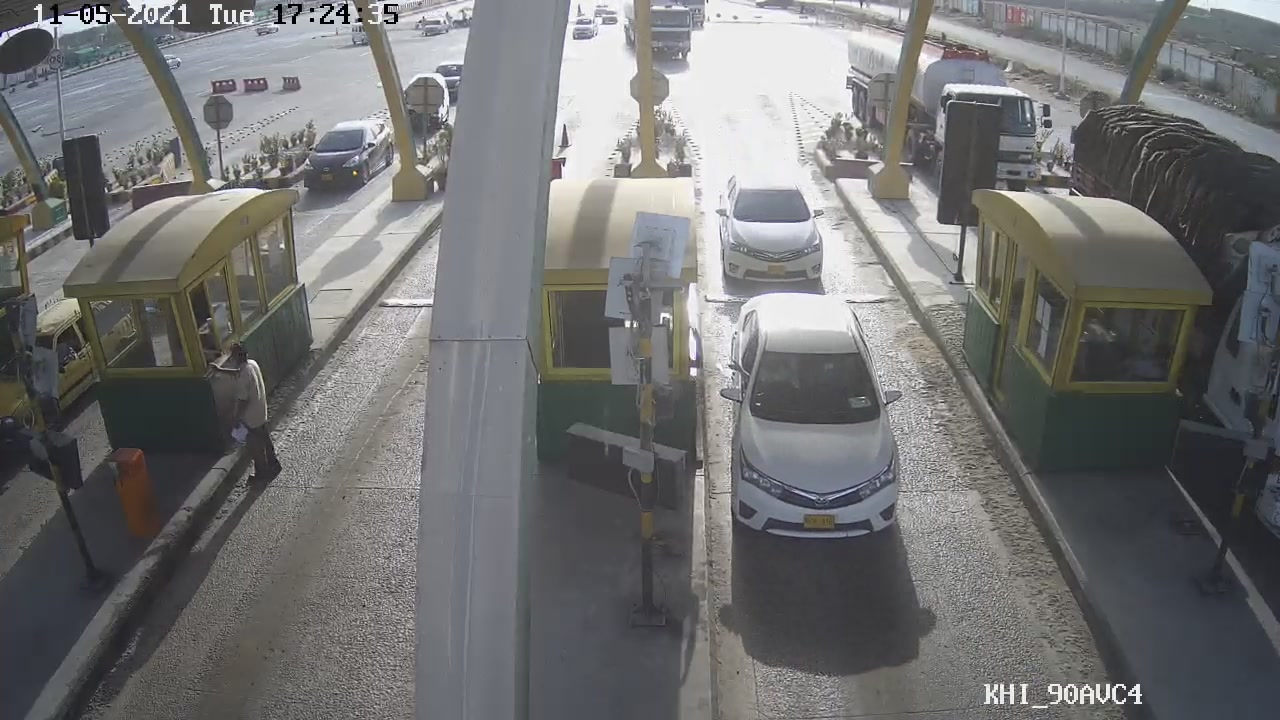F1: (721, 290, 913, 535), (709, 158, 842, 288)
